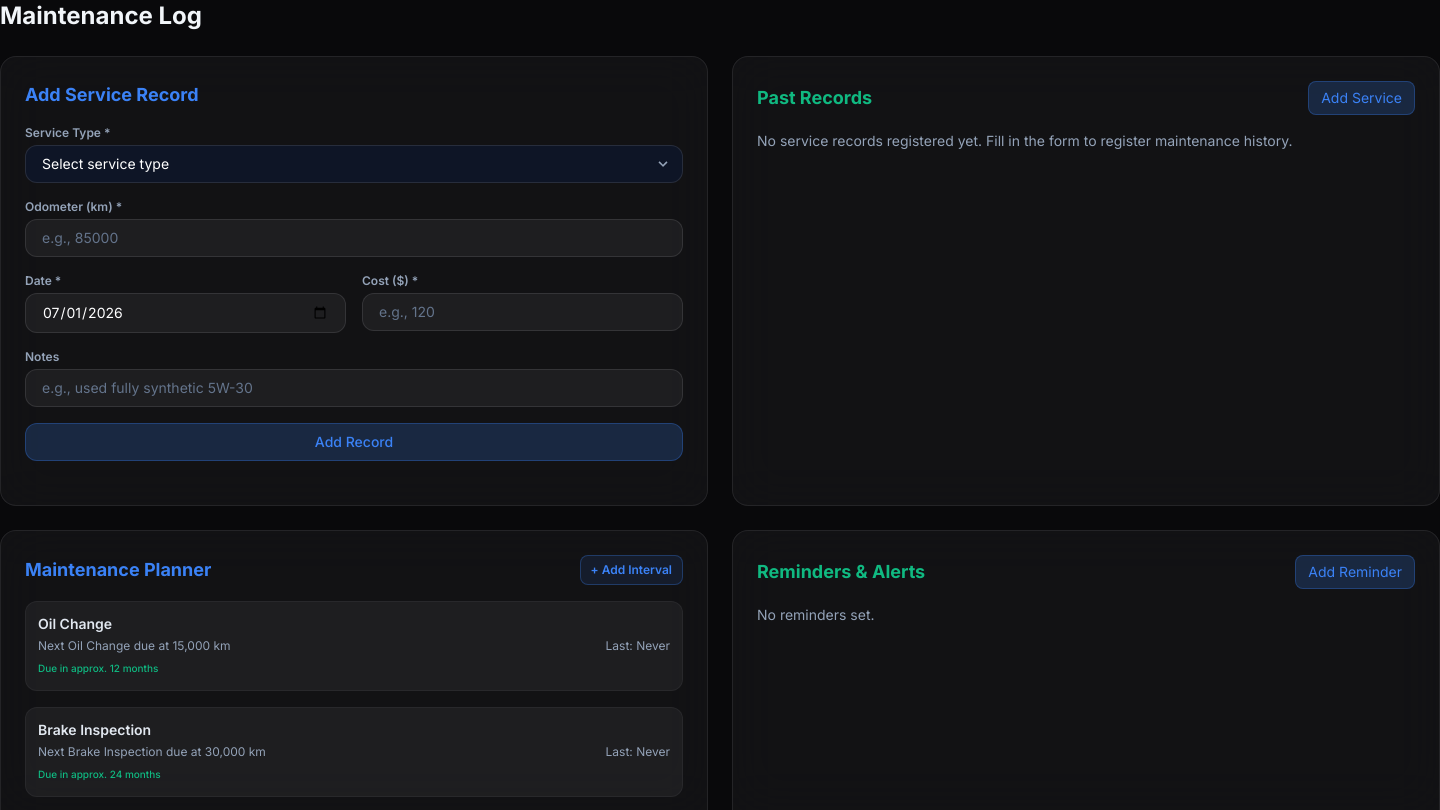
Test: ServiceView Stress and Adversarial Tests › 5. should verify UI toggling (modals opening/closing and Cancel button resets state)
# Click Add Service to open modal
Click the button "Add Service".
click(1362, 98)  # box [1308, 81, 1415, 115]
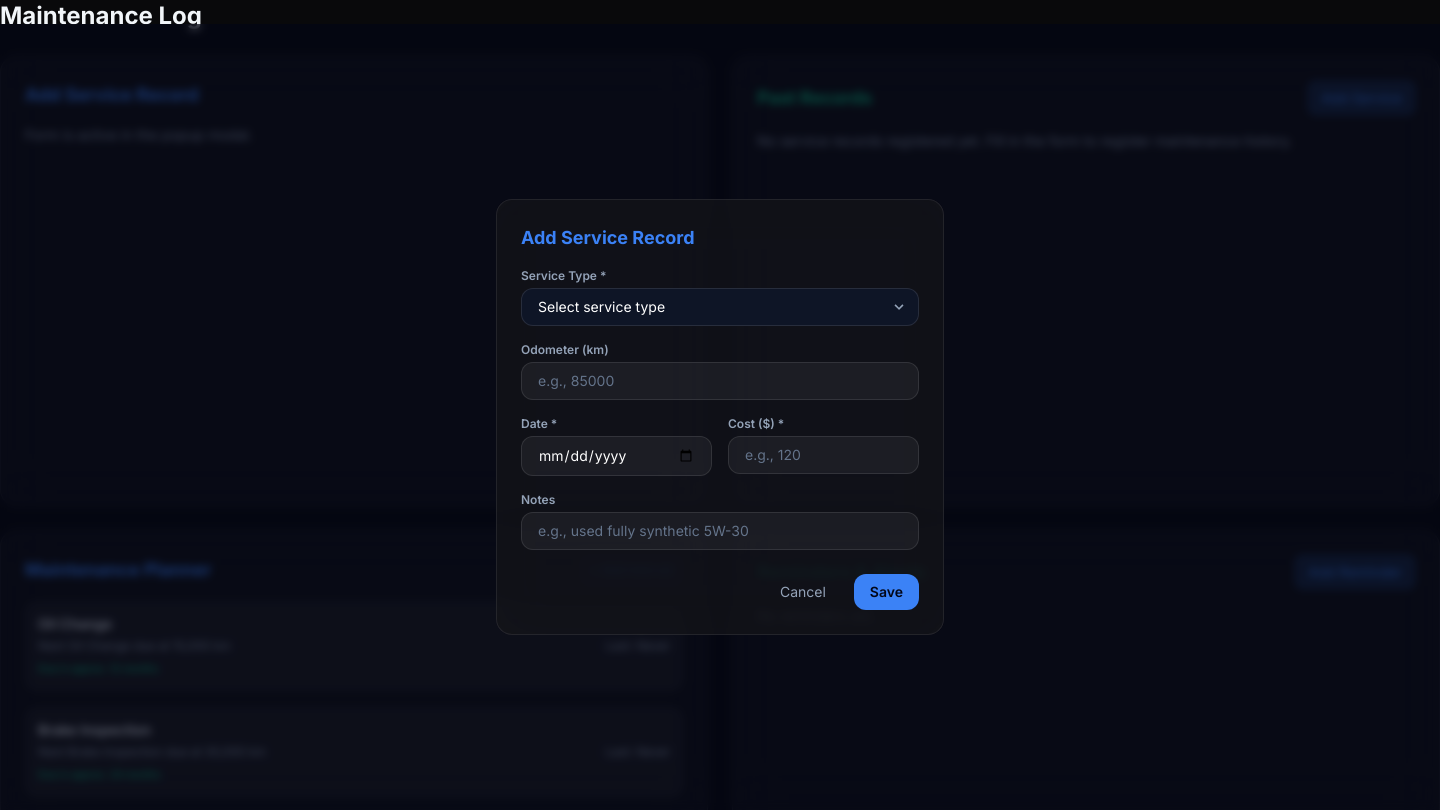
Expected: the number of headings "Add Service Record" is 2, [25, 84, 198, 105]; [521, 227, 694, 248]
# Click Cancel
Click the button "Cancel".
click(803, 592)  # box [764, 574, 842, 610]
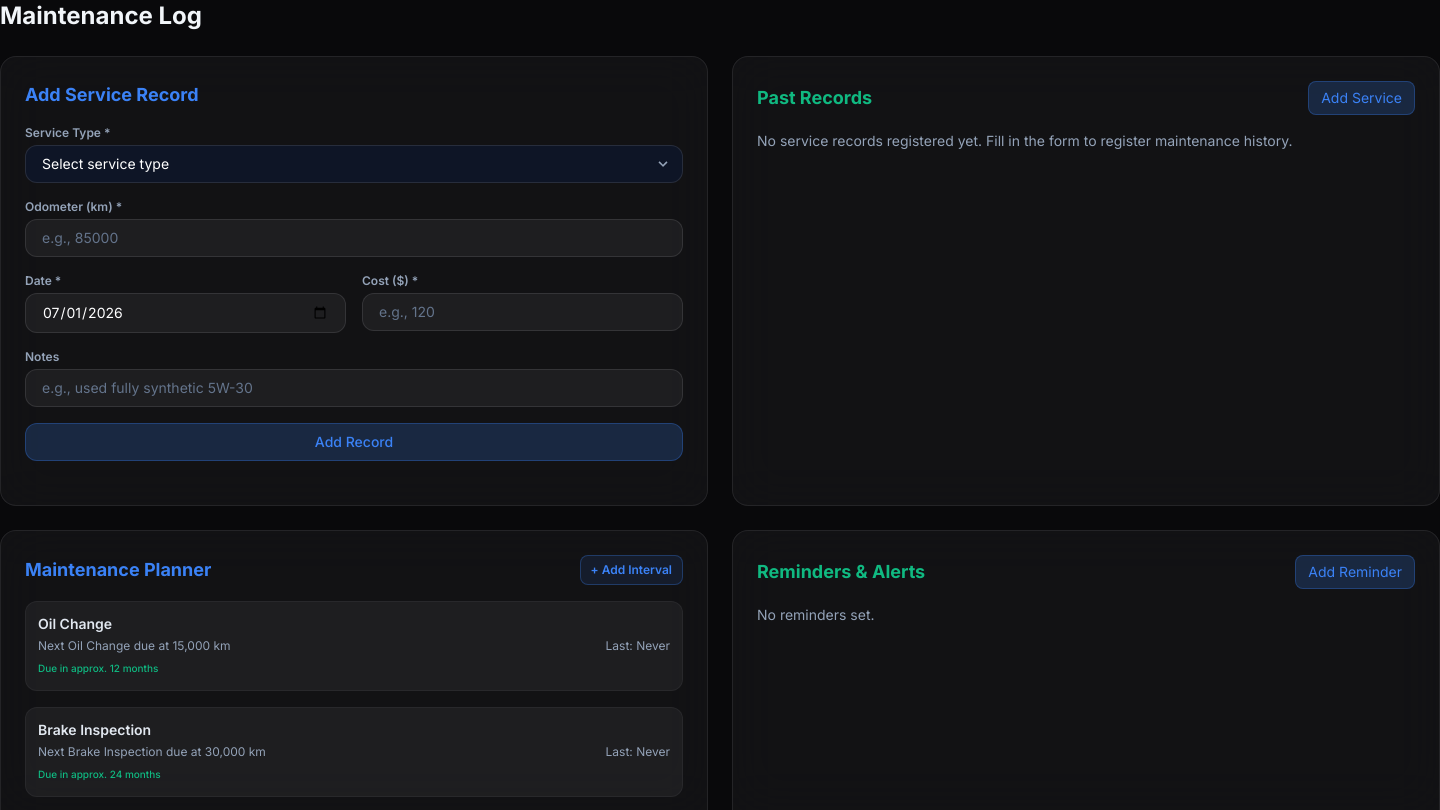
Expected: the number of headings "Add Service Record" is 1, [25, 84, 198, 105]
